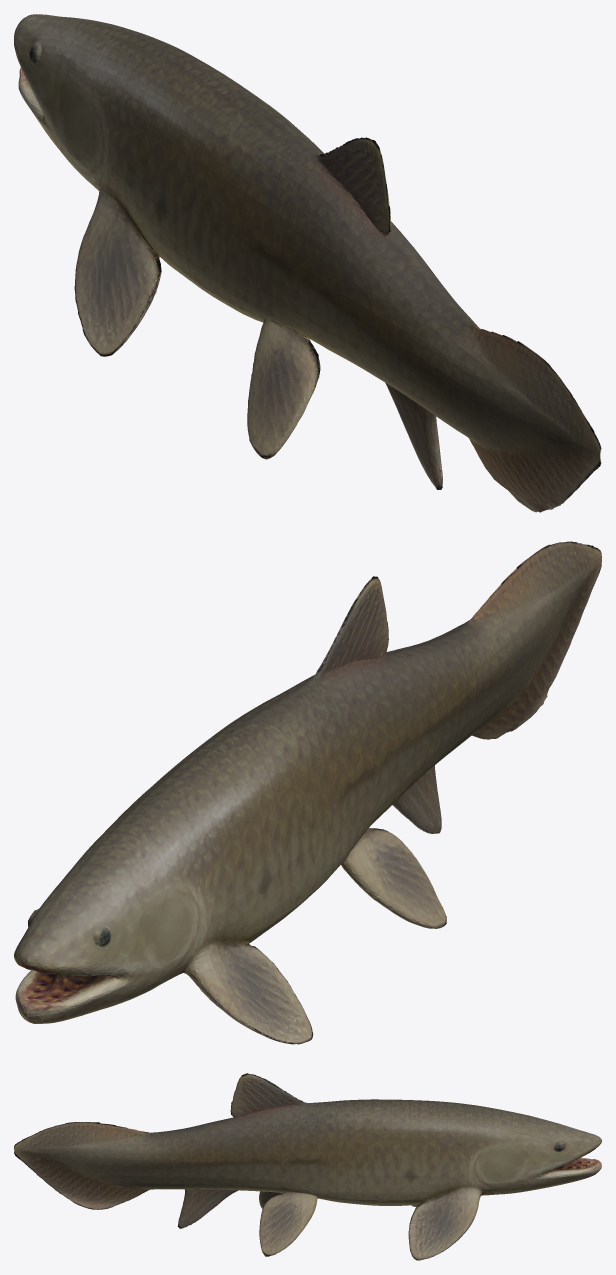
The picture shows the model from 3 angles, top to bottom: view 1: azimuth 30°, elevation 25°; view 2: azimuth 150°, elevation 25°; view 3: azimuth 270°, elevation 25°; orthographic projection. The views are drawn at different scales.
Parts seen in each view (by area): view 1: world; view 2: world; view 3: world.
Part boxes in pixels (x1,y1,x2,y2): world: [14, 14, 601, 512]; world: [14, 541, 601, 1044]; world: [14, 1073, 601, 1260].
Size of the model in its own units: 0.2168 by 0.3006 by 0.9991.
Materials: 1 (1 with a texture image).
